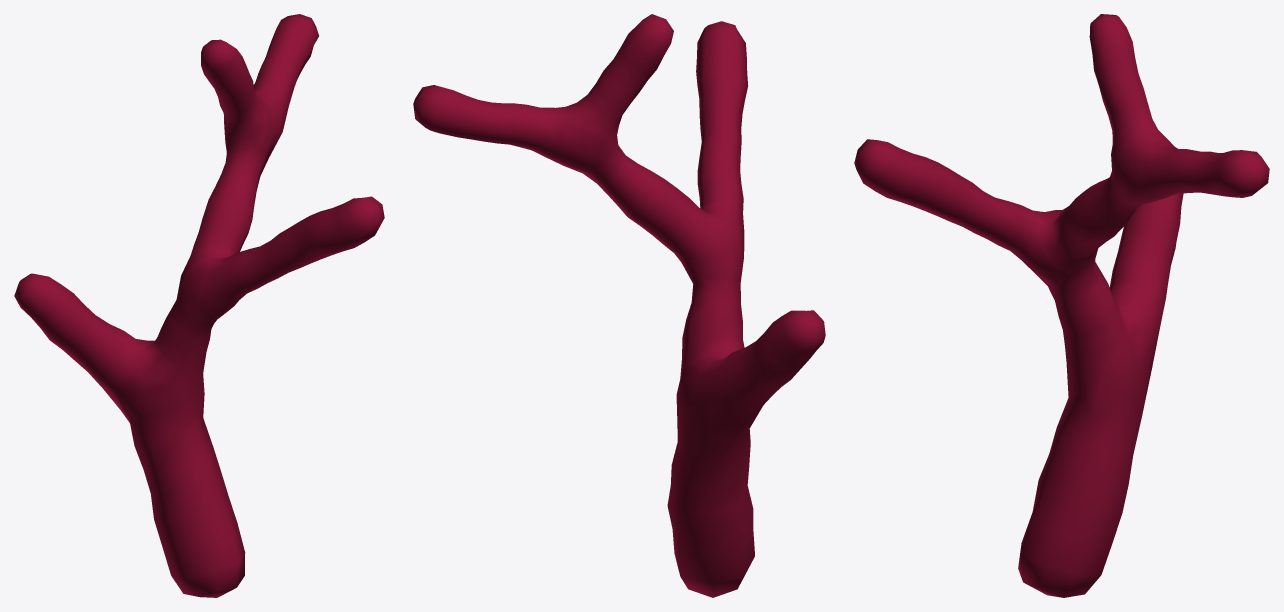
File: coral_test.fbx
3 renders of one model, left to right at view 1: azimuth 30°, elevation 25°; view 2: azimuth 150°, elevation 25°; view 3: azimuth 270°, elevation 25°, orthographic. The views are drawn at different scales.
Visible parts, largest first — view 1: Cube; view 2: Cube; view 3: Cube.
Part boxes in pixels (left/top/right/bottom): Cube: left=14, top=14, right=384, bottom=597; Cube: left=413, top=14, right=825, bottom=597; Cube: left=854, top=14, right=1269, bottom=597.
Bounding box in the file's own units: 632 × 957 × 603.
